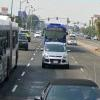cars: (40, 41, 70, 69)
